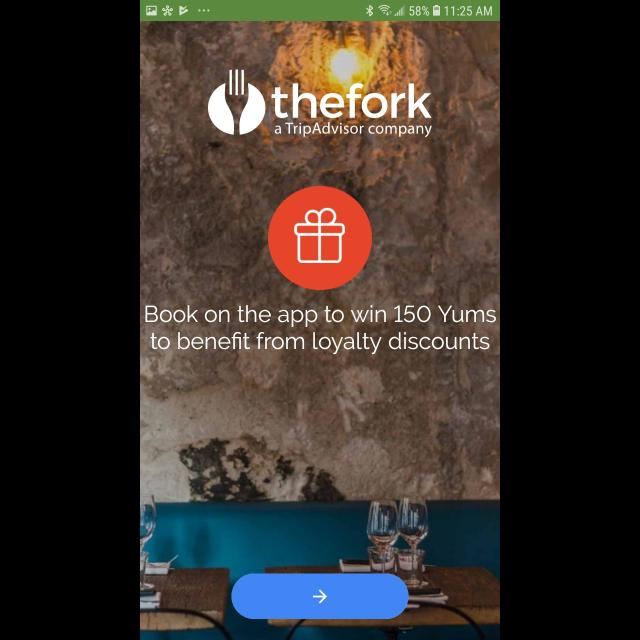backgroundimage: (140, 22, 500, 640)
icon: (268, 187, 372, 291)
image: (272, 83, 432, 137), (208, 70, 266, 134)
text: (146, 306, 496, 354)
textbutton: (232, 573, 408, 619)
uppertaskbar: (140, 1, 500, 21)
